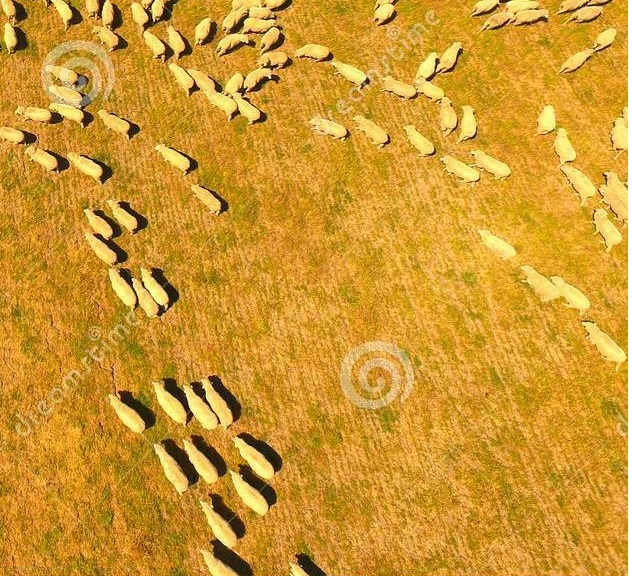sheep: (231, 427, 281, 491), (143, 439, 195, 500), (197, 494, 243, 559), (181, 437, 238, 489), (230, 466, 280, 522), (106, 386, 155, 443), (180, 378, 227, 437), (196, 372, 242, 430), (149, 376, 194, 435), (151, 142, 208, 182), (582, 312, 621, 367), (224, 86, 276, 127), (102, 197, 146, 243), (96, 104, 137, 150), (352, 110, 393, 156), (520, 259, 559, 306), (560, 162, 599, 208), (64, 148, 111, 186), (216, 30, 258, 72), (468, 140, 509, 183), (102, 262, 136, 313), (44, 80, 97, 112), (292, 35, 337, 71), (305, 111, 350, 147), (476, 222, 516, 262), (252, 23, 290, 63), (135, 272, 165, 322), (189, 180, 224, 221), (195, 540, 234, 576), (179, 60, 218, 96), (40, 60, 88, 89), (243, 57, 275, 100), (551, 274, 585, 314), (190, 17, 231, 50), (142, 264, 174, 306), (439, 151, 478, 184), (326, 59, 370, 88), (560, 46, 595, 82), (50, 101, 96, 128), (384, 73, 421, 106), (261, 46, 292, 85), (535, 98, 560, 146), (431, 84, 455, 133), (78, 203, 107, 243), (1, 13, 30, 53), (138, 22, 166, 62), (90, 232, 121, 268), (371, 1, 405, 33), (22, 142, 57, 173), (165, 62, 194, 99), (90, 23, 122, 56), (514, 6, 553, 33), (571, 4, 610, 31), (206, 84, 233, 122), (225, 2, 256, 35), (1, 125, 37, 153), (487, 6, 518, 38), (222, 62, 248, 99), (16, 103, 56, 127), (415, 47, 440, 84), (54, 1, 82, 32), (435, 42, 460, 76), (589, 204, 609, 244), (406, 120, 429, 154), (553, 124, 573, 162), (458, 103, 476, 145), (123, 1, 149, 30), (91, 1, 121, 26), (594, 21, 616, 52), (249, 3, 276, 27), (466, 1, 504, 11)
